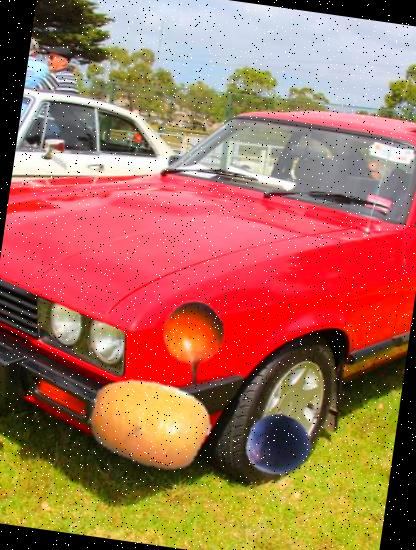Granadilla: (147, 295, 244, 392)
Kumquats: (83, 357, 217, 491)
Plum: (242, 408, 316, 483)
